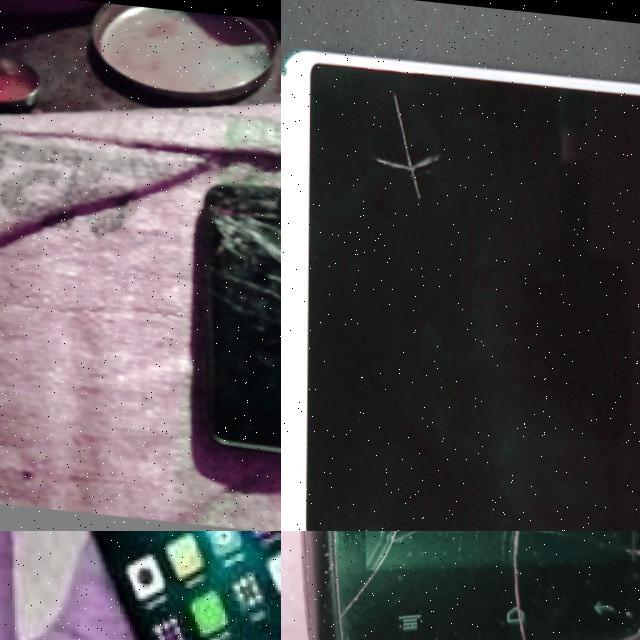scratch: (375, 86, 442, 200)
screen crack: (317, 531, 640, 640), (194, 177, 281, 330)
